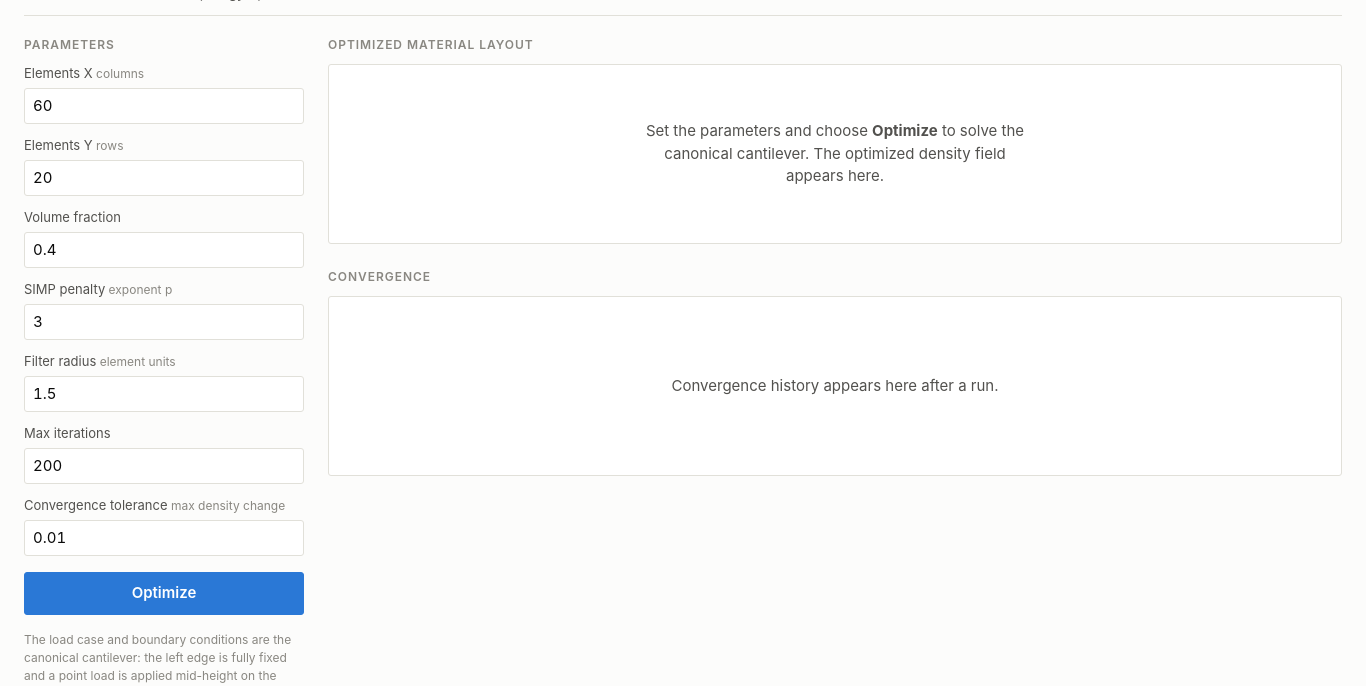
Test: failures › hints at a stopped backend when a 5xx carries no message
The width and height of the screenshot is (1366, 686).
Step 1. Click the button "Optimize" → (164, 593), box [24,572,304,614]
(page scrolled)
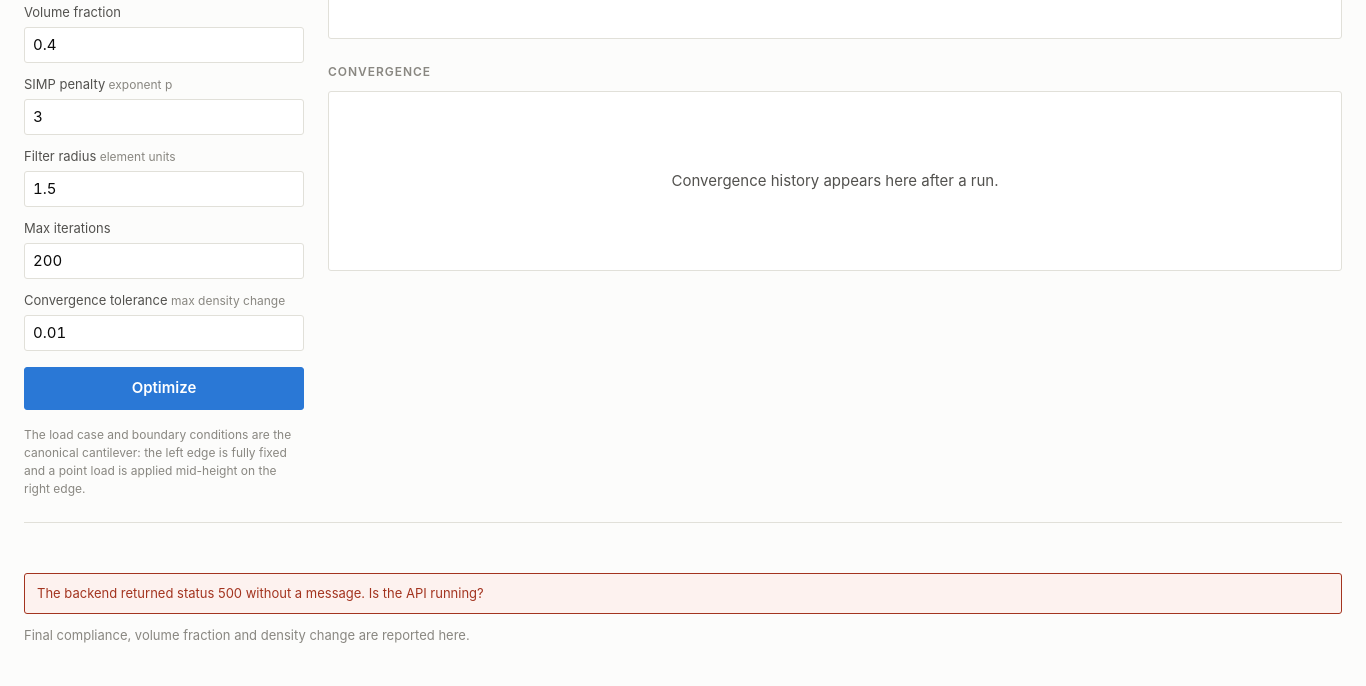
Expected: the message "The backend returned status 500 without a message. Is the API running?" is shown, [24,572,1342,614]
